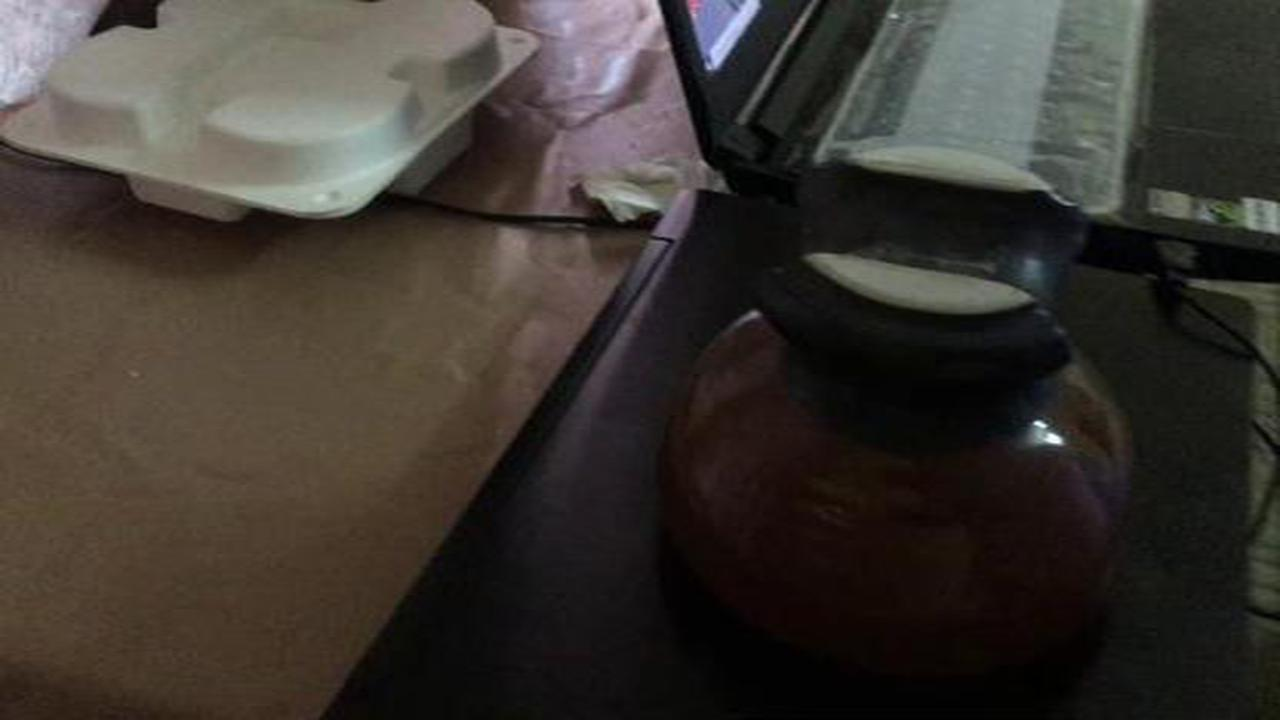insulator_pin: (647, 129, 1161, 689)
